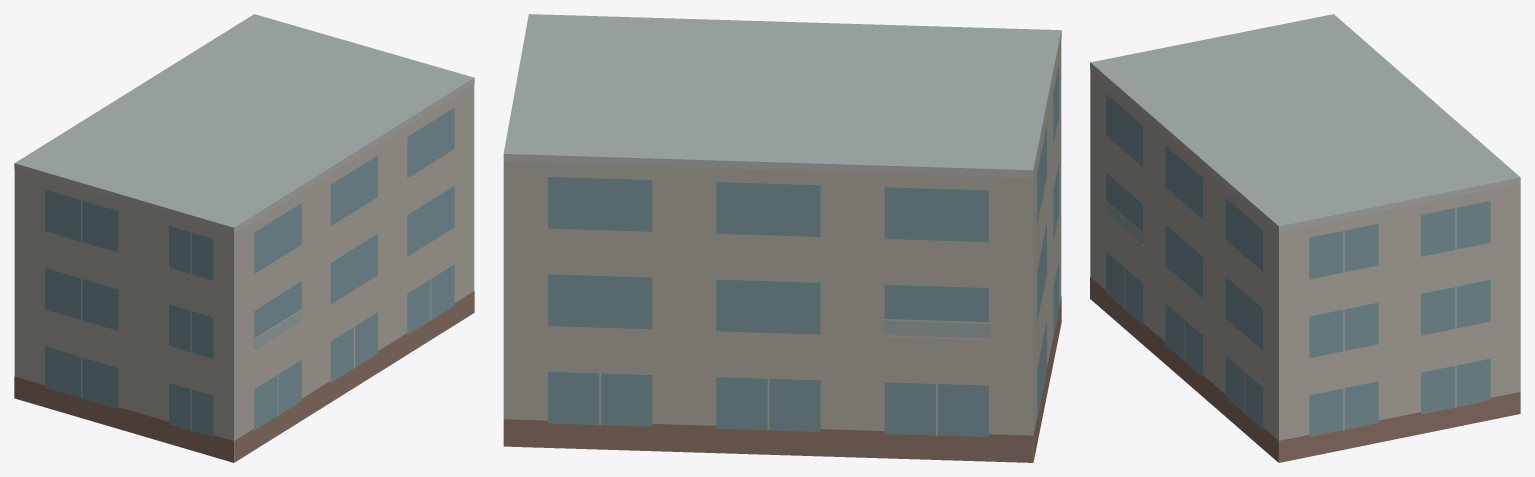
File: survey-upis-32697998.glb
3 renders of one model, left to right at view 1: azimuth 30°, elevation 25°; view 2: azimuth 150°, elevation 25°; view 3: azimuth 270°, elevation 25°, orthographic. The views are drawn at different scales.
Parts seen in each view (by area): view 1: survey-upis-32697998.tmp; view 2: survey-upis-32697998.tmp; view 3: survey-upis-32697998.tmp.
Part boxes in pixels (x1,y1,x2,y2): survey-upis-32697998.tmp: (14, 14, 474, 462); survey-upis-32697998.tmp: (503, 14, 1061, 462); survey-upis-32697998.tmp: (1090, 14, 1520, 462).
Bounding box in the file's own units: 17.63 × 9.15 × 15.1.
